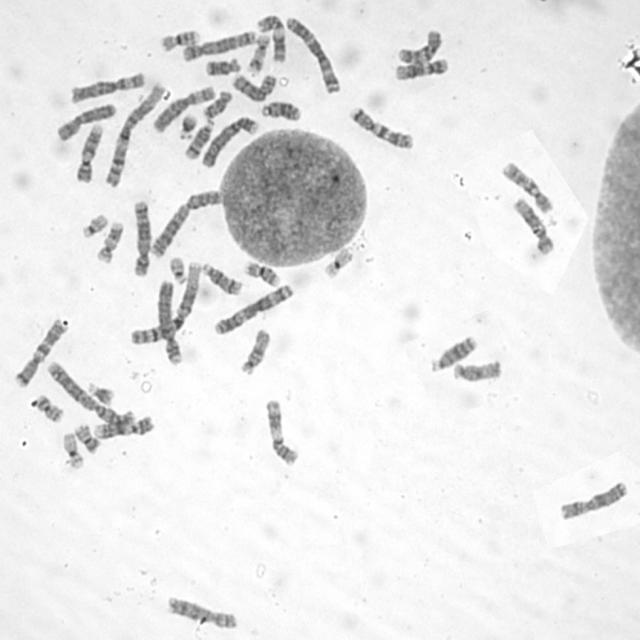A1: (102, 79, 166, 190), (126, 257, 204, 346)
A2: (44, 358, 134, 431), (148, 185, 224, 260)
A3: (283, 13, 343, 95), (211, 280, 296, 336)
B4: (198, 112, 261, 170), (154, 277, 183, 366)
B5: (180, 27, 258, 62), (130, 197, 152, 278)
C10: (500, 159, 554, 214), (394, 26, 444, 66)
C11: (262, 395, 300, 468), (255, 11, 287, 63)
C12: (510, 193, 556, 256), (392, 55, 451, 82)
C6: (150, 83, 216, 133), (68, 70, 148, 104)
C7: (11, 314, 67, 390), (347, 103, 415, 150)
C8: (164, 592, 239, 630), (229, 69, 278, 103)
C9: (72, 119, 105, 184), (90, 411, 156, 440)
D13: (427, 332, 479, 373), (258, 98, 302, 122)
D14: (199, 260, 245, 296), (182, 118, 215, 160)
D15: (237, 326, 272, 377), (450, 357, 503, 383)
E16: (241, 258, 283, 288), (157, 27, 202, 53)
E17: (94, 219, 125, 265), (245, 32, 272, 75)
E18: (201, 88, 234, 120), (203, 55, 241, 76)
F19: (320, 242, 355, 279), (60, 429, 85, 471)
F20: (32, 391, 66, 423), (73, 420, 102, 455)
G21: (85, 378, 116, 407), (176, 110, 198, 141)
G22: (79, 210, 110, 240), (167, 253, 188, 286)
X: (556, 476, 630, 521), (53, 100, 118, 142)
